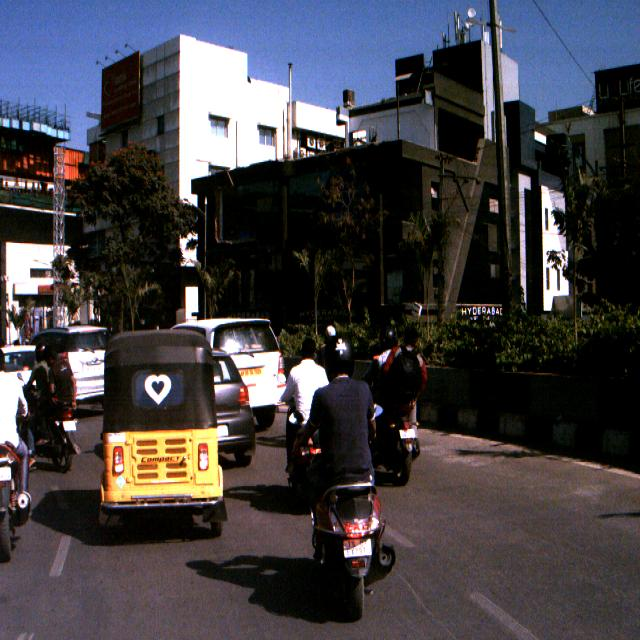auto ahead at: (98, 328, 233, 540)
motorcycle ahead at: (307, 477, 402, 616)
